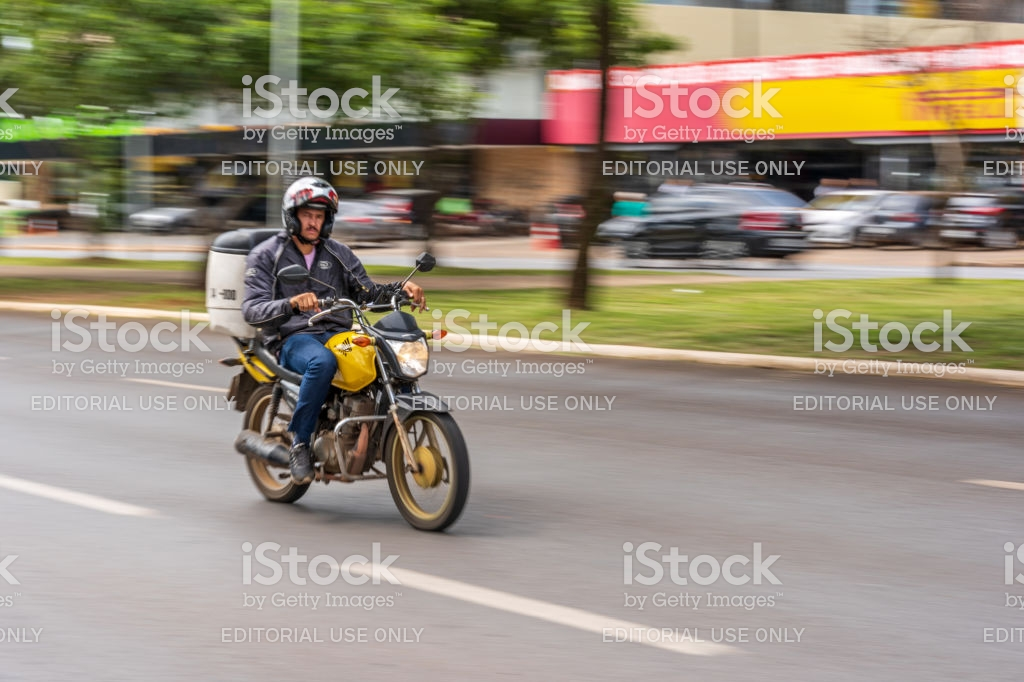helmet: (285, 169, 341, 233)
